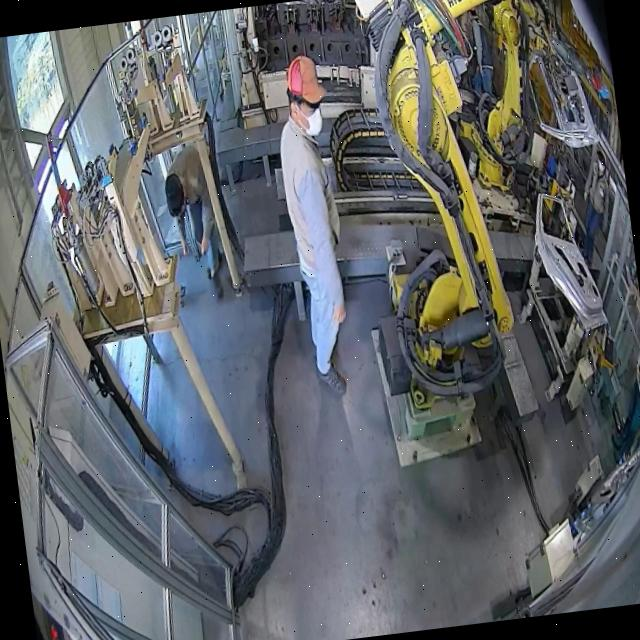Person: (267, 51, 363, 398), (159, 140, 227, 284), (568, 151, 618, 269)
